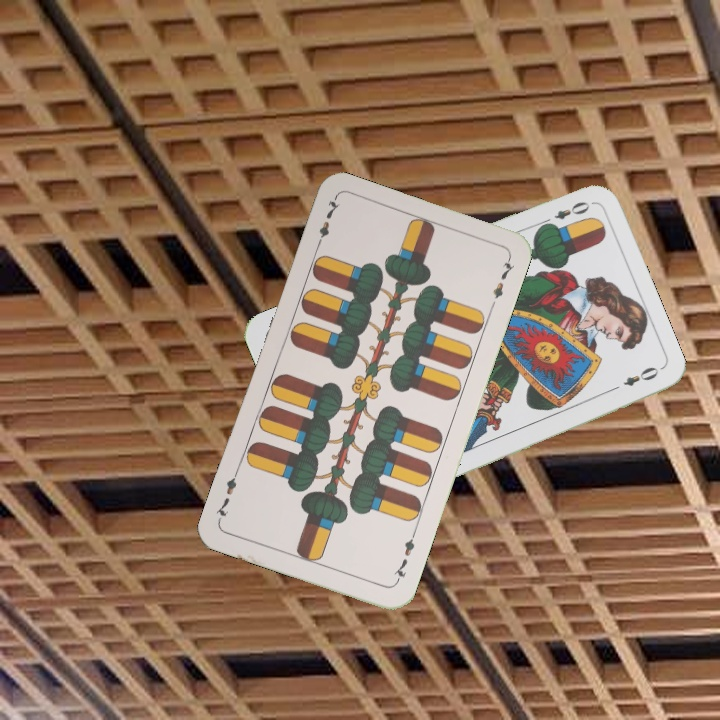E7: (311, 195, 342, 252), (389, 529, 418, 586)
EO: (537, 197, 592, 229)
